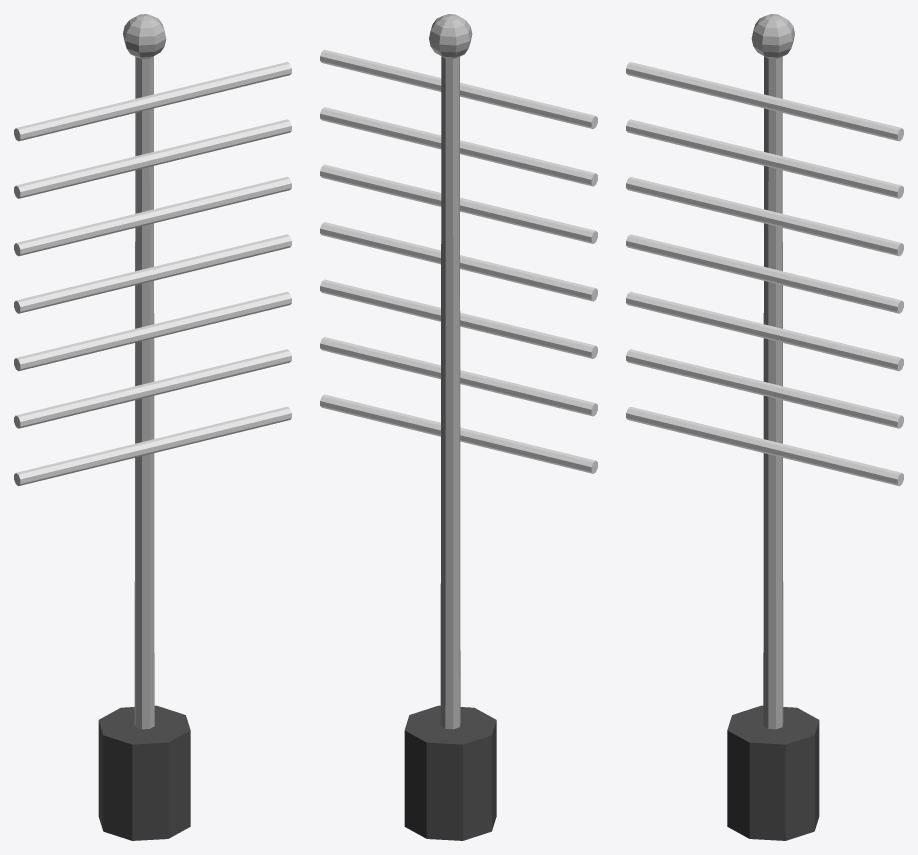
Rendered from Prop_Intel_03.fbx.
The picture shows the model from 3 angles, left to right: view 1: azimuth 30°, elevation 25°; view 2: azimuth 150°, elevation 25°; view 3: azimuth 330°, elevation 25°; orthographic projection.
Parts seen in each view (by area): view 1: Prop_Intel_03; view 2: Prop_Intel_03; view 3: Prop_Intel_03.
Boxes of the visible parts, x1,y1,x2,y2 form: Prop_Intel_03: [14, 14, 291, 840]; Prop_Intel_03: [320, 14, 597, 840]; Prop_Intel_03: [626, 14, 903, 840].
Bounding box in the file's own units: 124 × 352 × 37.8.
